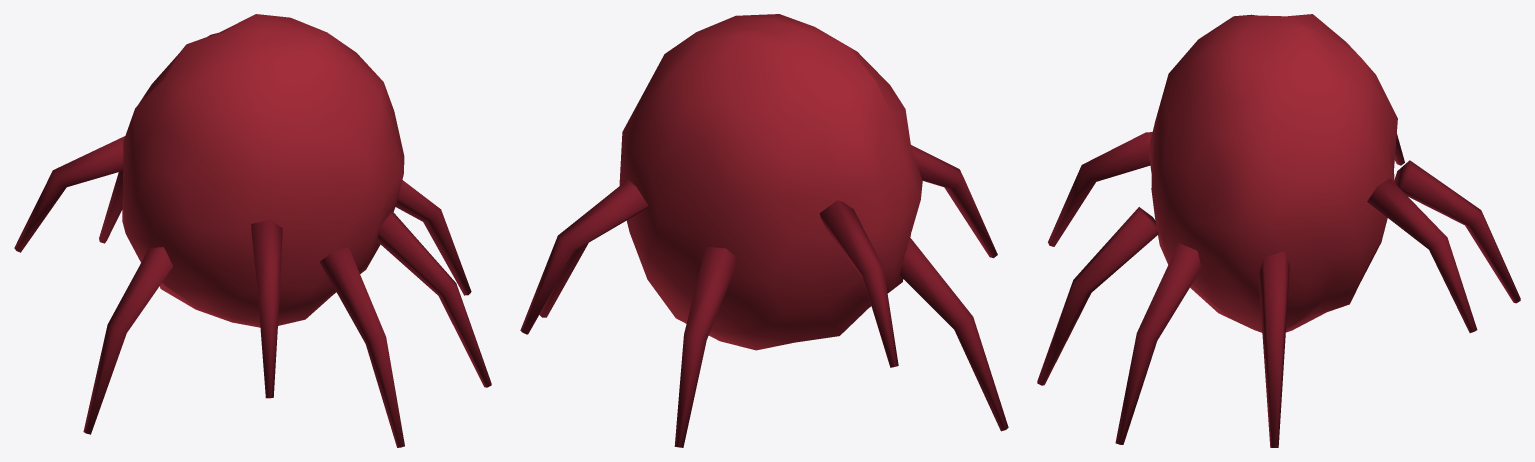
The model's file is crimson_heart.glb.
The picture shows the model from 3 angles, left to right: view 1: azimuth 30°, elevation 25°; view 2: azimuth 150°, elevation 25°; view 3: azimuth 270°, elevation 25°; orthographic projection. The views are drawn at different scales.
Visible parts, largest first — view 1: crimson_heart_v0; view 2: crimson_heart_v0; view 3: crimson_heart_v0.
Part boxes in pixels (x1,y1,x2,y2): crimson_heart_v0: [14, 14, 491, 447]; crimson_heart_v0: [520, 14, 1008, 447]; crimson_heart_v0: [1037, 14, 1520, 447].
Bounding box in the file's own units: 0.7524 × 0.6034 × 0.7577.
